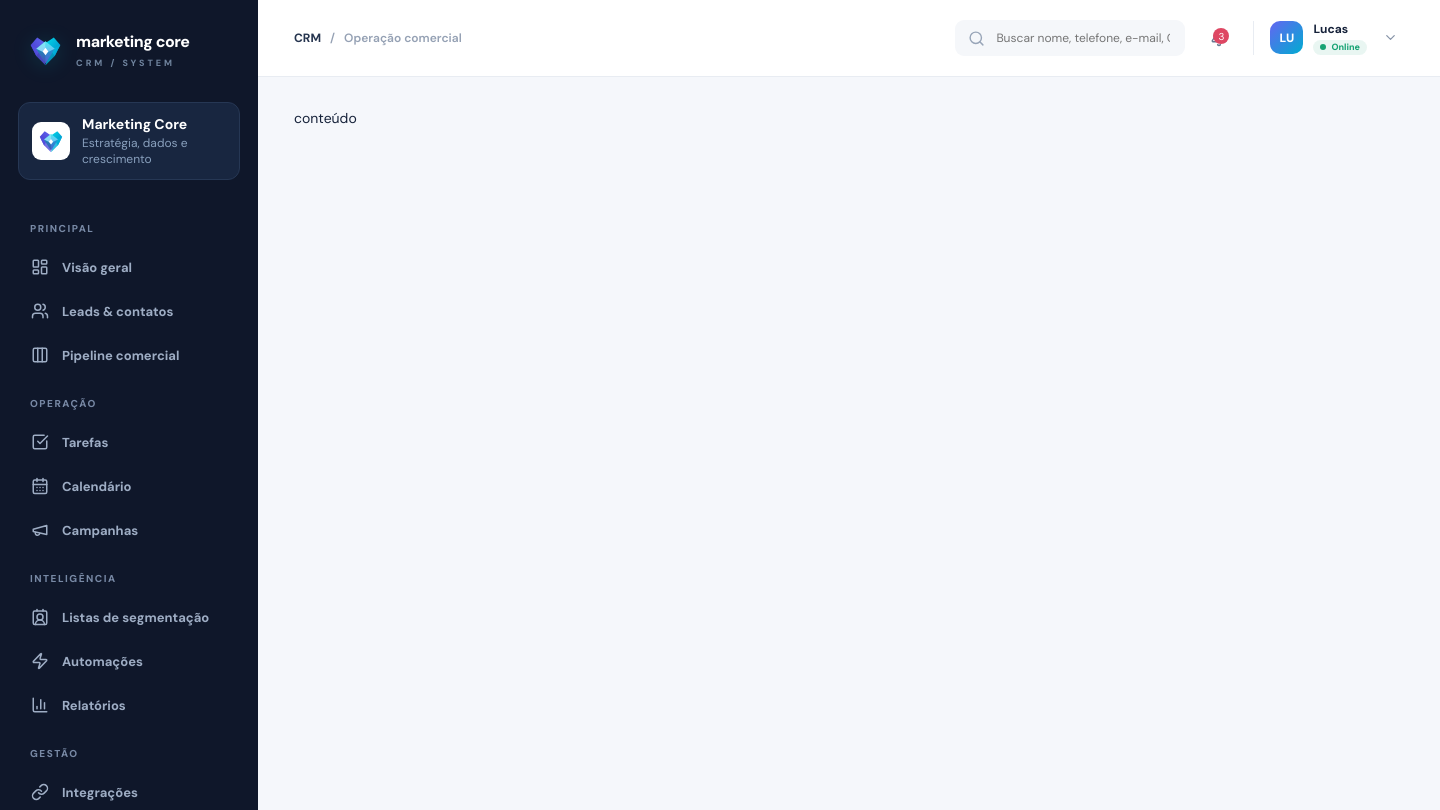
Test case: AppShell › abre a janela de notificações abaixo do sino
Step 1. Click the button named "Notificações" → (1219, 38), box [1204,23,1234,53]
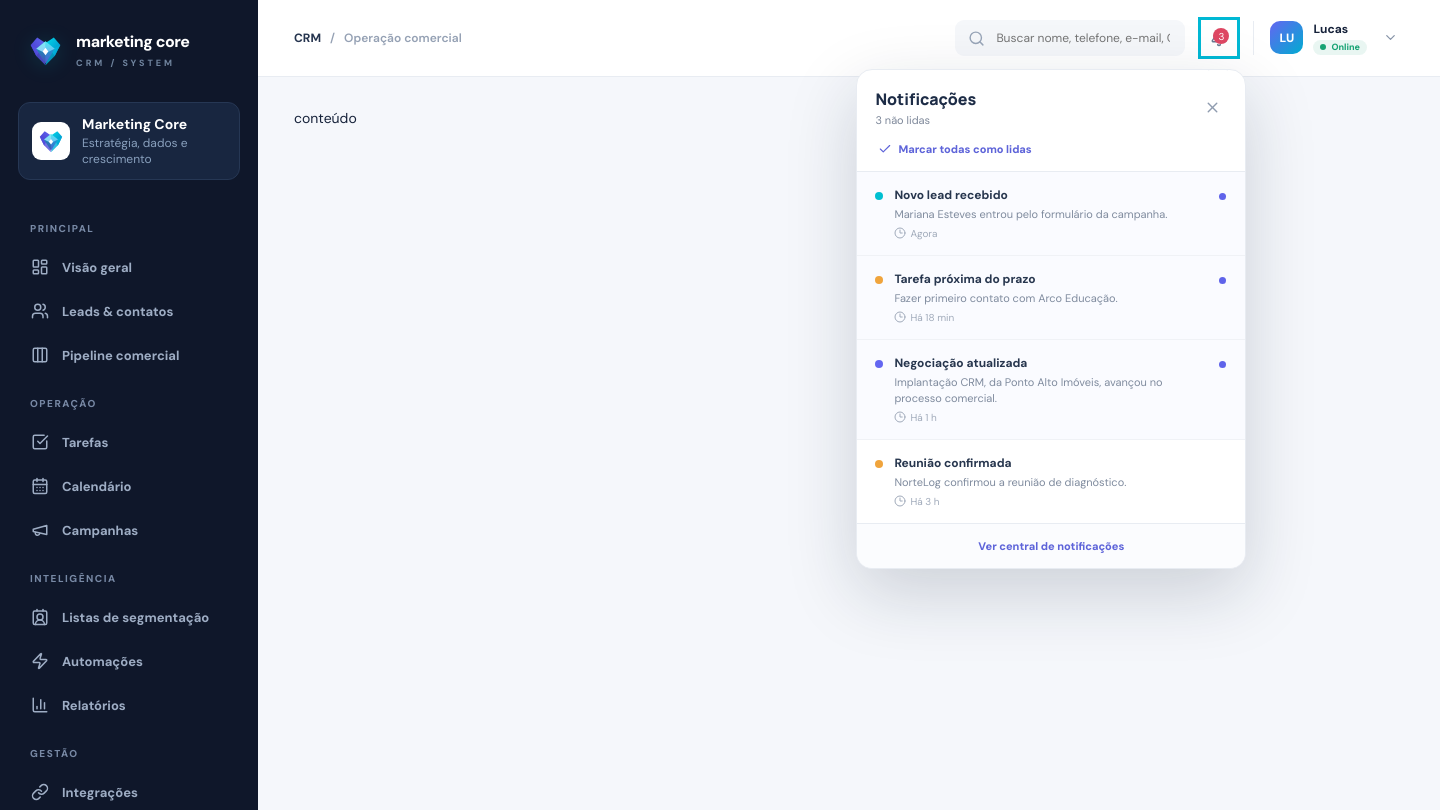
Expected: the dialog named "Notificações do CRM" is shown, [856,69,1246,569]
Expected: the text "Novo lead recebido" is shown, [894,187,1008,203]
Expected: the text "3 não lidas" is shown, [875,113,930,127]
